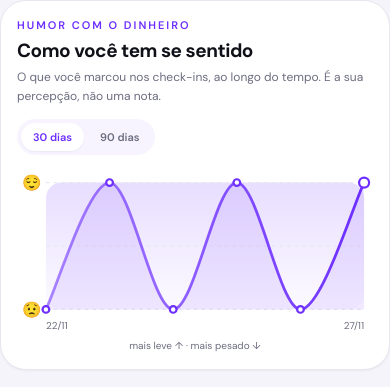
Test: evolução do humor › com registros suficientes desenha a linha e deixa trocar 30/90 dias, sem vermelho
Click the button "90 dias". click: {"x": 120, "y": 137}
box: [88, 123, 151, 151]
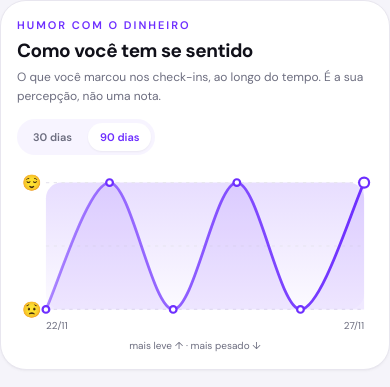
Expected: the text "sua percepção, não uma nota" is shown, [17, 69, 363, 104]
Result: the button "90 dias" is pressed at [88, 123, 151, 151]
